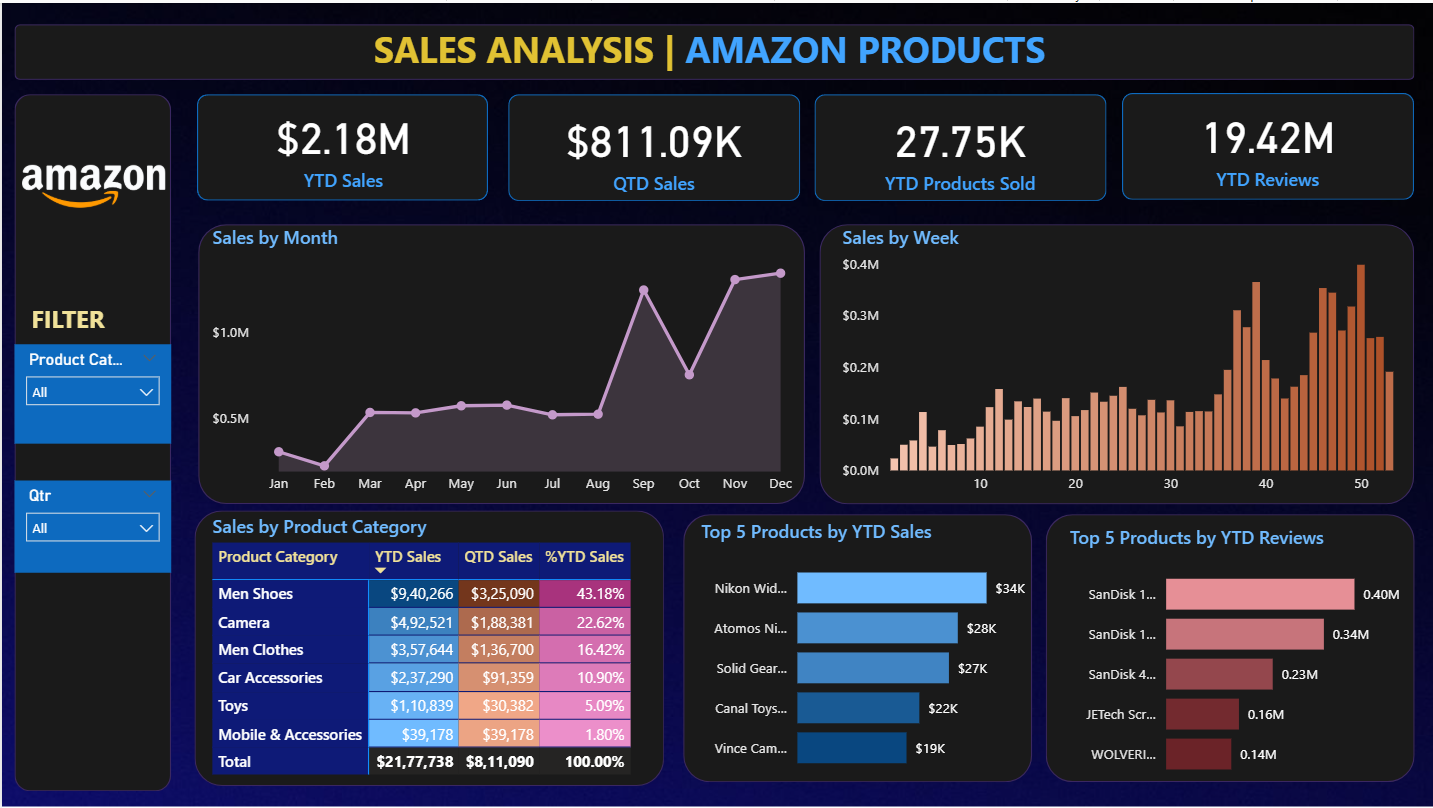

Layout of this report page (visuals, bound fields, positions):
{"tool":"powerbi","page":{"name":"Page 1","canvas":[1280,720],"ordinal":0},"visuals":[{"type":"shape","box":[10.8,18.8,1250.7,49.8],"z":0},{"type":"textbox","box":[326.8,14.8,626.7,53.8],"z":1000},{"type":"shape","box":[10.8,82,139.9,622.7],"z":2000},{"type":"shape","box":[174.8,82,260,95],"z":3000,"group":"g1"},{"type":"shape","box":[174.8,197.7,542,250],"z":3000},{"type":"group","id":"g1","title":"Group 1","box":[172.1,80.7,1089.3,96.8],"z":4000},{"type":"card","fields":{"Values":["Amazon_Data.YTD Sales"]},"box":[172.1,80.7,266.3,95.5],"z":4000,"group":"g1"},{"type":"shape","box":[451.8,82,260.9,95.5],"z":5000,"group":"g1"},{"type":"areaChart","title":"Sales by Month","fields":{"Category":["Date Table.Month Name"],"Y":["Sum(Amazon_Data.Price(Dollar))"]},"box":[182.9,197.7,533.9,250.1],"z":5000},{"type":"shape","box":[726.2,82,260.9,95.5],"z":6000,"group":"g1"},{"type":"shape","box":[730.2,197.7,531.2,250.1],"z":6000},{"type":"shape","box":[1000.5,80.7,260.9,95.5],"z":7000,"group":"g1"},{"type":"columnChart","title":"Sales by Week","fields":{"Category":["Date Table.Week"],"Y":["Sum(Amazon_Data.Price(Dollar))"]},"box":[746.4,197.7,523.1,250.1],"z":7000},{"type":"card","fields":{"Values":["Amazon_Data.QTD Sales"]},"box":[472,86.1,220.6,90.1],"z":8000,"group":"g1"},{"type":"shape","box":[172.1,453.2,419.6,246.1],"z":8000},{"type":"card","fields":{"Values":["Amazon_Data.YTD Products Sold"]},"box":[746.3,86.1,220.6,90.1],"z":9000,"group":"g1"},{"type":"pivotTable","title":"Sales by Product Category","fields":{"Rows":["Amazon_Data.Product Category"],"Values":["Amazon_Data.YTD Sales1","Amazon_Data.QTD Sales","Amazon_Data.YTD Sales"]},"box":[182.9,455.9,399.4,240.7],"z":9000},{"type":"card","fields":{"Values":["Amazon_Data.YTD Reviews"]},"box":[1020.7,83.4,220.6,90.1],"z":10000,"group":"g1"},{"type":"shape","box":[608.1,457,311.6,239.5],"z":10000},{"type":"shape","box":[932,457.2,329.5,239.4],"z":11000},{"type":"clusteredBarChart","title":"Top 5 Products by YTD Sales ","fields":{"Category":["Amazon_Data.Product Description"],"Y":["Amazon_Data.YTD Sales"]},"box":[619.8,460.5,311.6,239.5],"z":12000},{"type":"clusteredBarChart","title":"Top 5 Products by YTD Reviews","fields":{"Category":["Amazon_Data.Product Description"],"Y":["Amazon_Data.YTD Reviews"]},"box":[948.8,465.1,311.6,239.5],"z":13000},{"type":"slicer","fields":{"Values":["Amazon_Data.Product Category"]},"box":[10.8,305.3,139.9,88.8],"z":14000},{"type":"slicer","fields":{"Values":["Date Table.Qtr"]},"box":[10.8,426.3,139.9,82],"z":15000},{"type":"image","box":[17.5,131.8,127.8,64.6],"z":15001},{"type":"textbox","box":[21.5,262.2,119.7,43],"z":15002}]}

Visuals, with their boxes in screenshot pixels (x1, y1, x2, y2), scaled from the page's 1280x720 canvas onto the 1433x808 screenshot:
shape: select_region(12, 21, 1412, 77)
textbox: select_region(366, 17, 1067, 77)
shape: select_region(12, 92, 169, 791)
shape: select_region(196, 92, 487, 199)
shape: select_region(196, 222, 802, 502)
"Group 1" group: select_region(193, 91, 1412, 199)
card - Amazon_Data.YTD Sales: select_region(193, 91, 491, 198)
shape: select_region(506, 92, 798, 199)
"Sales by Month" areaChart: select_region(205, 222, 802, 503)
shape: select_region(813, 92, 1105, 199)
shape: select_region(817, 222, 1412, 503)
shape: select_region(1120, 91, 1412, 198)
"Sales by Week" columnChart: select_region(836, 222, 1421, 503)
card - Amazon_Data.QTD Sales: select_region(528, 97, 775, 198)
shape: select_region(193, 509, 662, 785)
card - Amazon_Data.YTD Products Sold: select_region(836, 97, 1082, 198)
"Sales by Product Category" pivotTable: select_region(205, 512, 652, 782)
card - Amazon_Data.YTD Reviews: select_region(1143, 94, 1390, 195)
shape: select_region(681, 513, 1030, 782)
shape: select_region(1043, 513, 1412, 782)
"Top 5 Products by YTD Sales " clusteredBarChart: select_region(694, 517, 1043, 786)
"Top 5 Products by YTD Reviews" clusteredBarChart: select_region(1062, 522, 1411, 791)
slicer - Amazon_Data.Product Category: select_region(12, 343, 169, 442)
slicer - Date Table.Qtr: select_region(12, 478, 169, 570)
image: select_region(20, 148, 163, 220)
textbox: select_region(24, 294, 158, 343)
